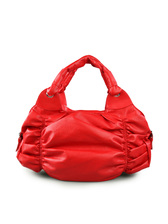bag: (14, 53, 155, 180)
